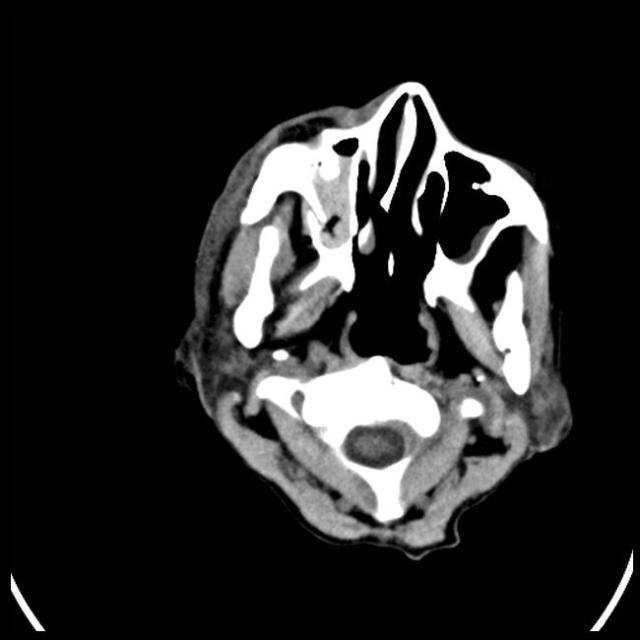lesion: (171, 77, 577, 562)
